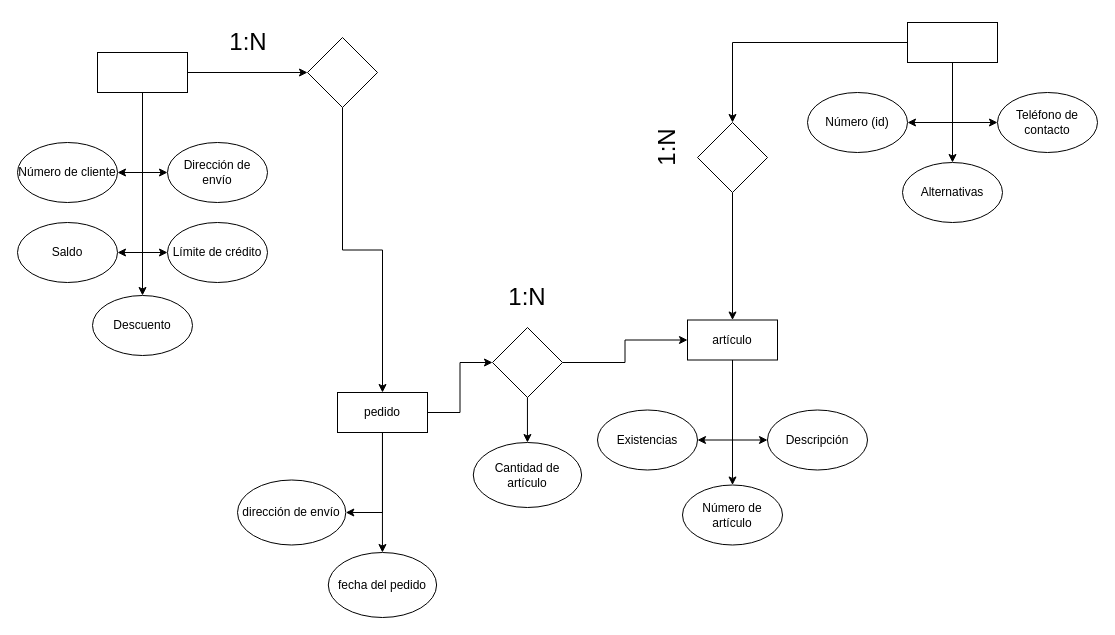
Some shapes in this 1115 by 635 pixel diagram are drawn without their labels. Here are the shapes that lost their labels. From the top down, the box of each, then its label:
(906, 22, 998, 62): fábrica
(96, 52, 188, 92): cliente
(306, 36, 378, 108): hace
(696, 122, 768, 192): distribuye
(492, 326, 562, 398): incluye
